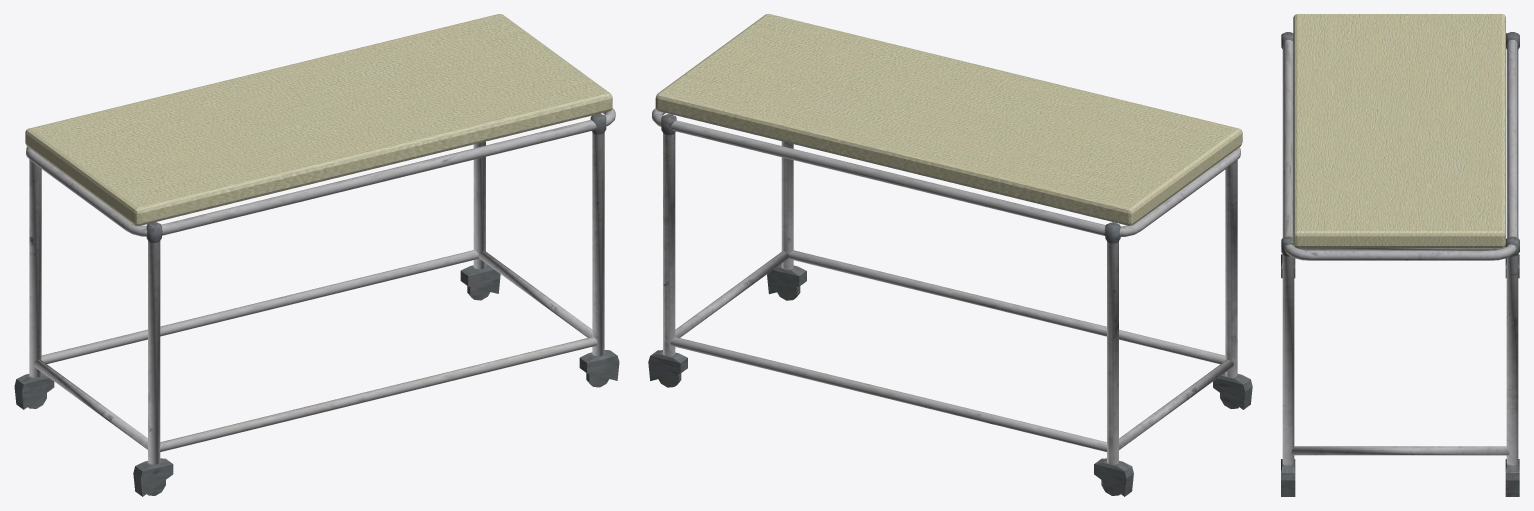
The model's file is steel_gurney.glb.
3 views of the same model, side by side, from view 1: azimuth 30°, elevation 25°; view 2: azimuth 150°, elevation 25°; view 3: azimuth 270°, elevation 25° (orthographic). The views are drawn at different scales.
Visible parts, largest first — view 1: Maca; view 2: Maca; view 3: Maca.
Boxes of the visible parts, left/top/right/bottom form: Maca: left=14, top=14, right=619, bottom=496; Maca: left=648, top=14, right=1252, bottom=496; Maca: left=1281, top=14, right=1519, bottom=496.
Bounding box in the file's own units: 2.24 × 1.26 × 1.01.
Materials: 1 (1 with a texture image).
